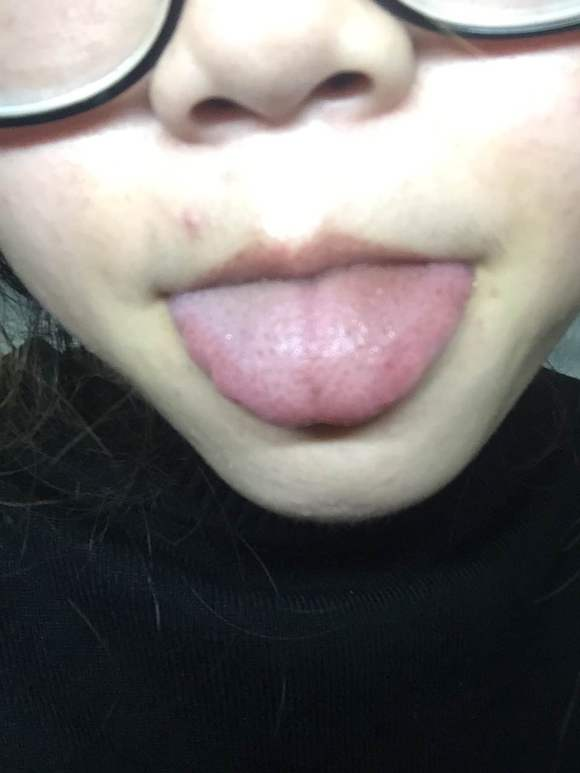baitaishe: (168, 260, 473, 423)
chihenshe: (172, 307, 233, 398)
